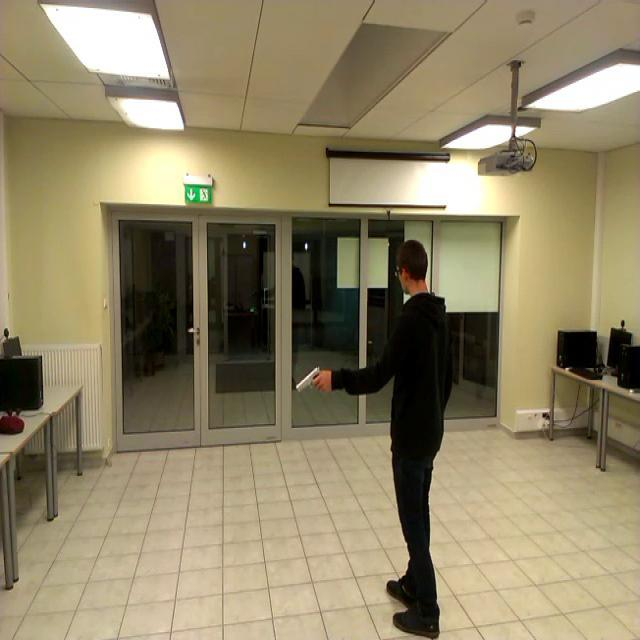Gun: (297, 365, 329, 393)
